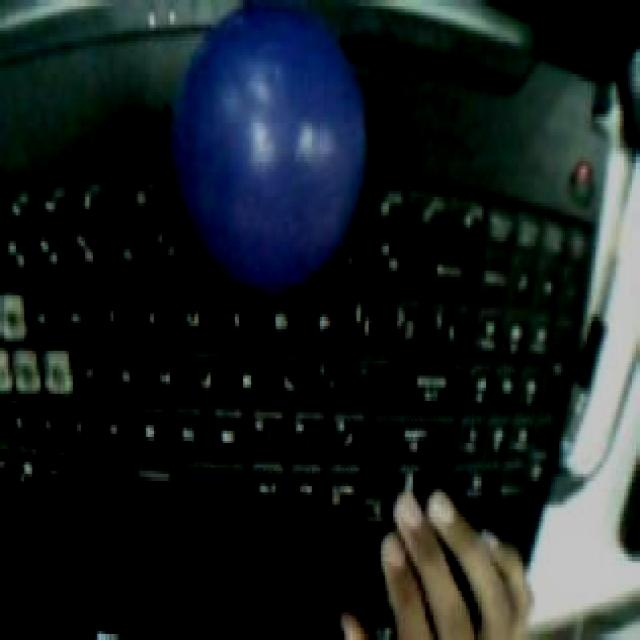BallPurple: (170, 6, 366, 296)
